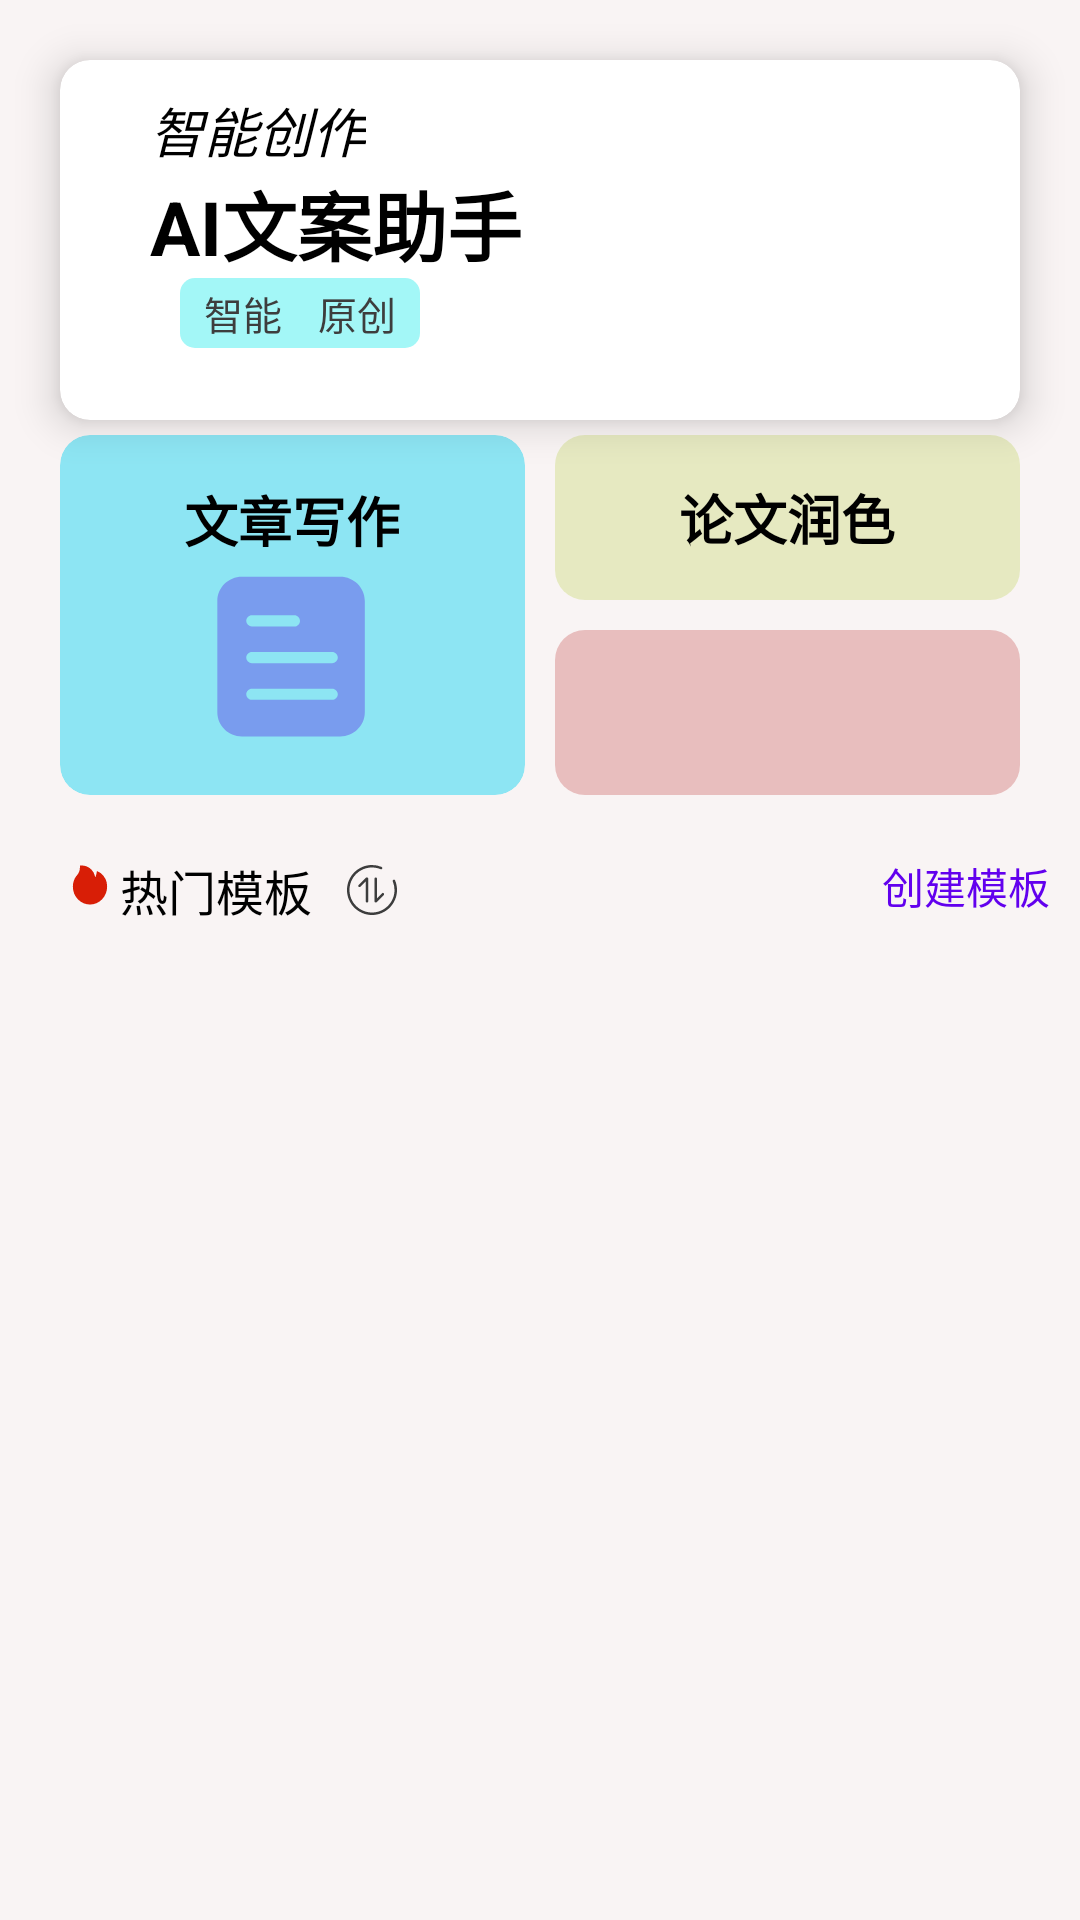

Where icons sit on this 1080 × 1920 app screen, as (x1, y1, x2, y2):
qiehuan: (347, 865, 397, 915)
